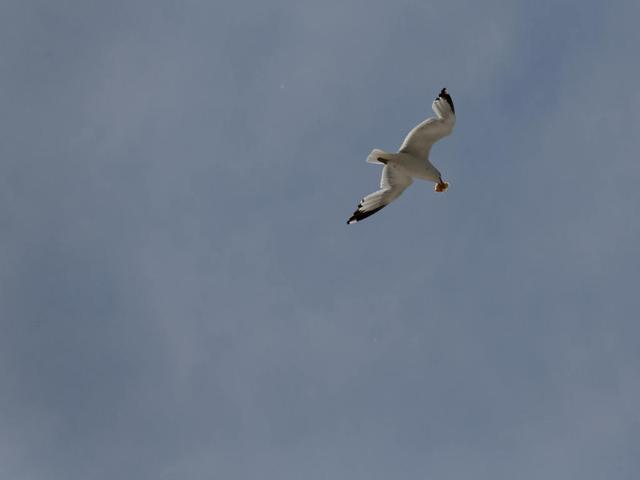bird: (333, 75, 461, 226)
